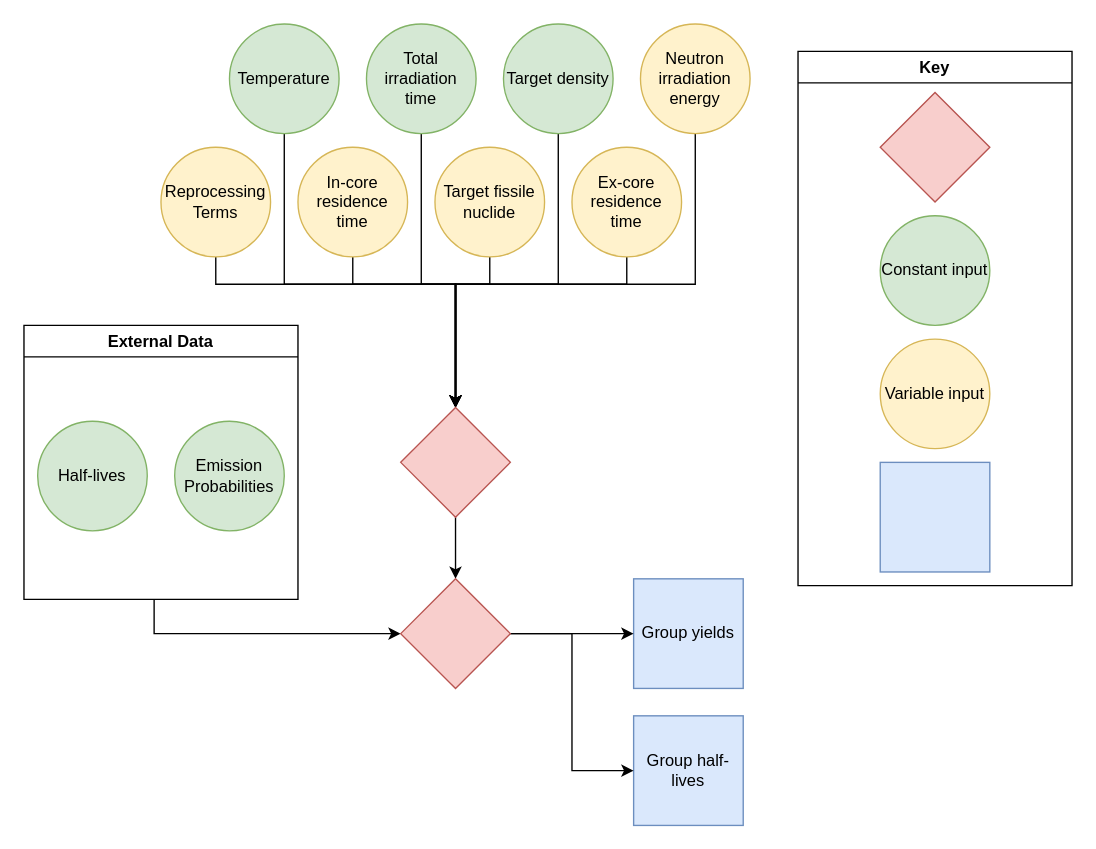
This 1096x849 diagram has some shape labels left out. The shapes that lost their labels are listed below. From the top down, each one's centre as x and y in pixels, then its label:
the point at 934,146: Operation
the point at 454,461: OpenMC
the point at 934,516: Generated output
the point at 454,632: MoSDeN
